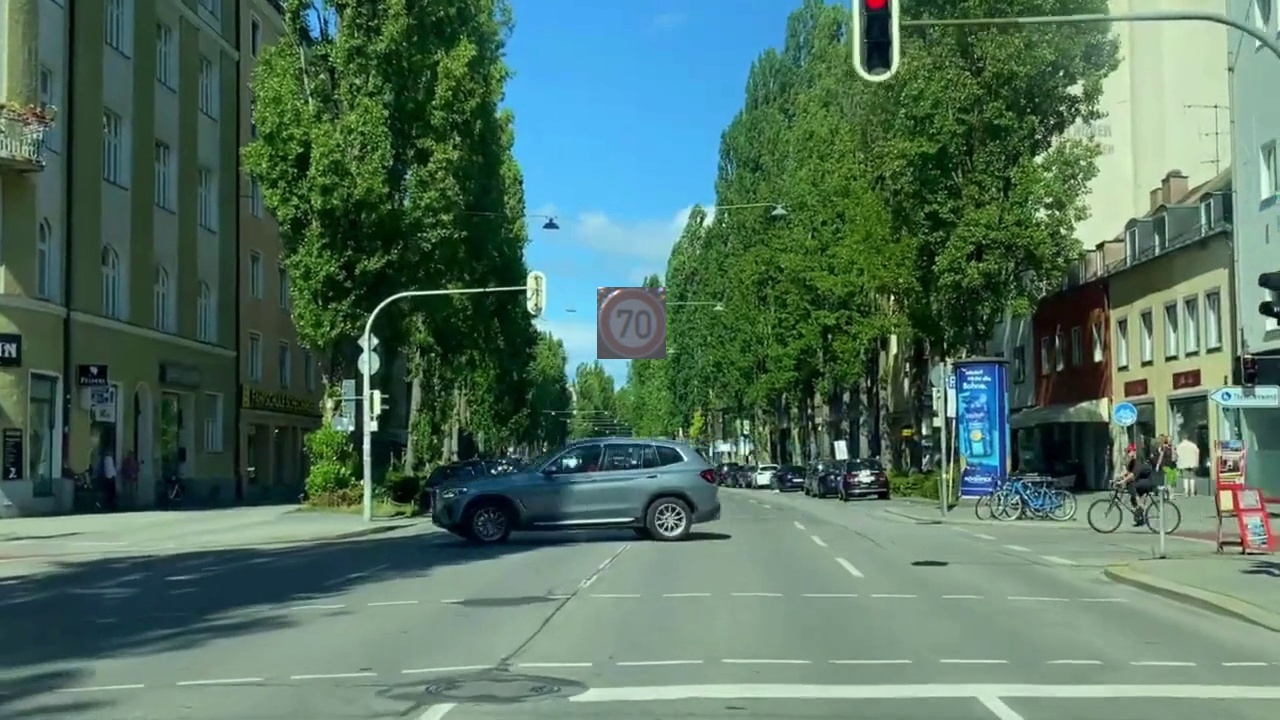Speed 70: (597, 287, 666, 359)
